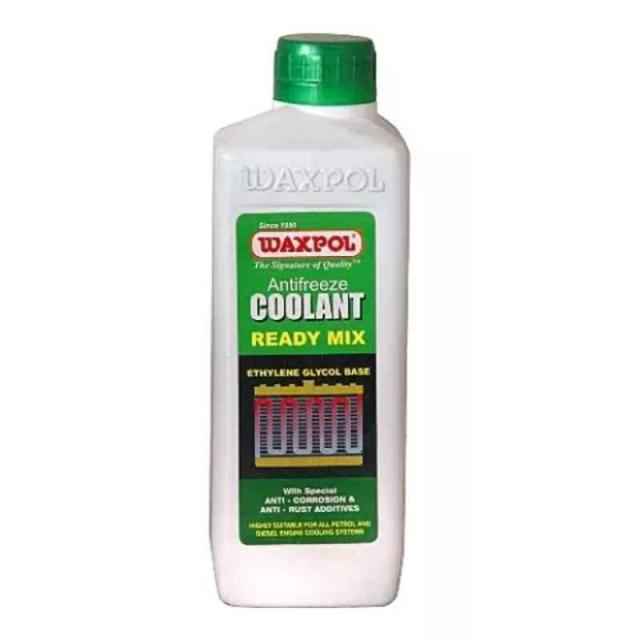coolant: (202, 24, 410, 613)
